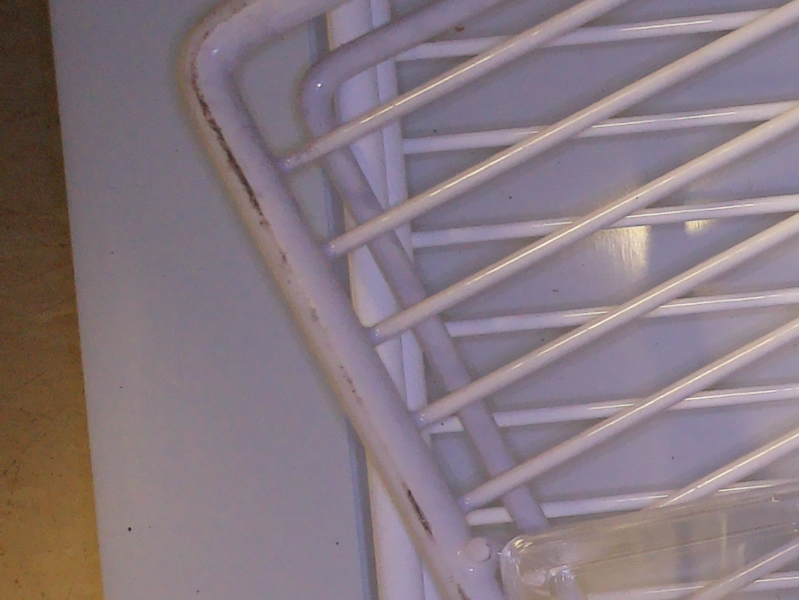plate: (489, 482, 799, 600)
